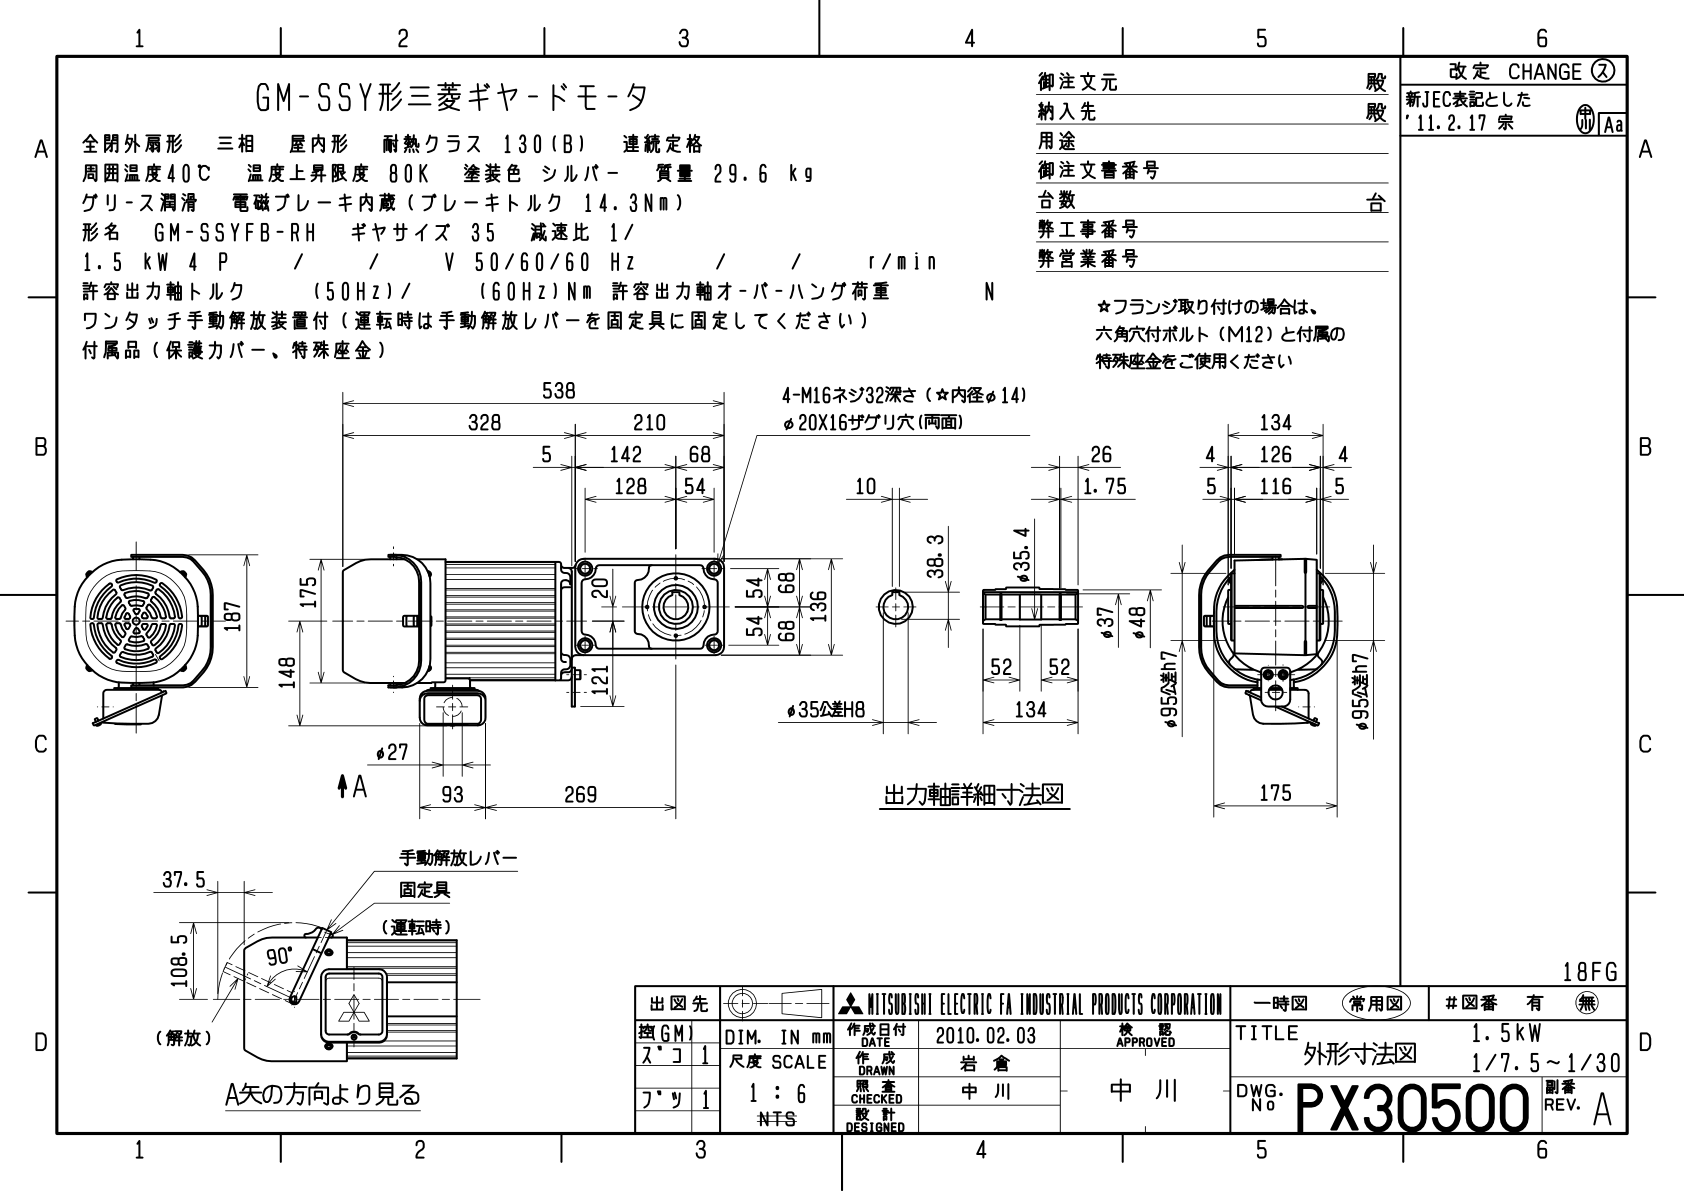GM_SSY_手動解放_三相: (1, 1, 1674, 1176)
